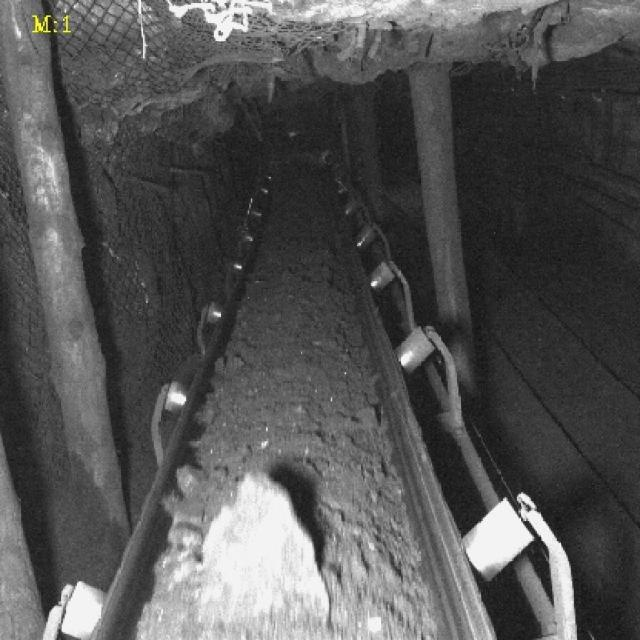large_sized_coal: (198, 471, 329, 612)
